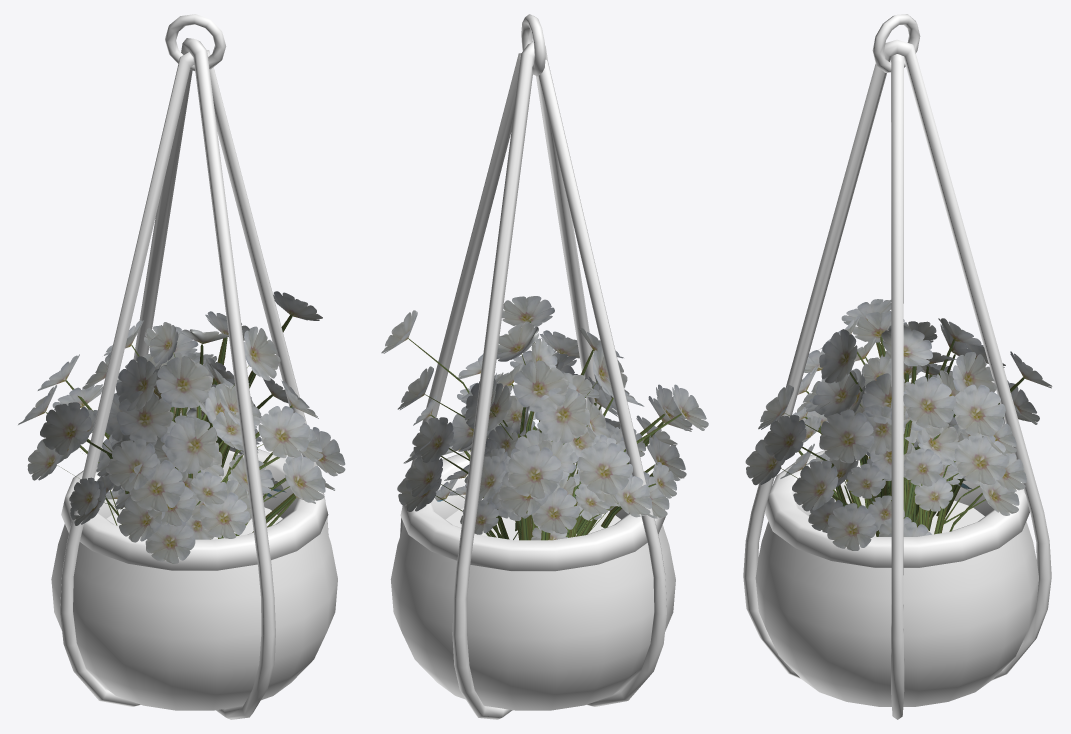
The model's file is SM_Potted_White2_Flower_E.fbx.
The picture shows the model from 3 angles, left to right: view 1: azimuth 30°, elevation 25°; view 2: azimuth 150°, elevation 25°; view 3: azimuth 270°, elevation 25°; orthographic projection.
Visible parts, largest first — view 1: SM_Potted_White2_Flower_E_LOD0; view 2: SM_Potted_White2_Flower_E_LOD0; view 3: SM_Potted_White2_Flower_E_LOD0.
Part boxes in pixels (box(x1,y1,x2,y2)): SM_Potted_White2_Flower_E_LOD0: box(18, 14, 345, 719); SM_Potted_White2_Flower_E_LOD0: box(381, 14, 708, 719); SM_Potted_White2_Flower_E_LOD0: box(743, 14, 1052, 719).
Size of the model in its own units: 33.38 by 30.23 by 71.54.
Materials: 2 (1 with a texture image).
